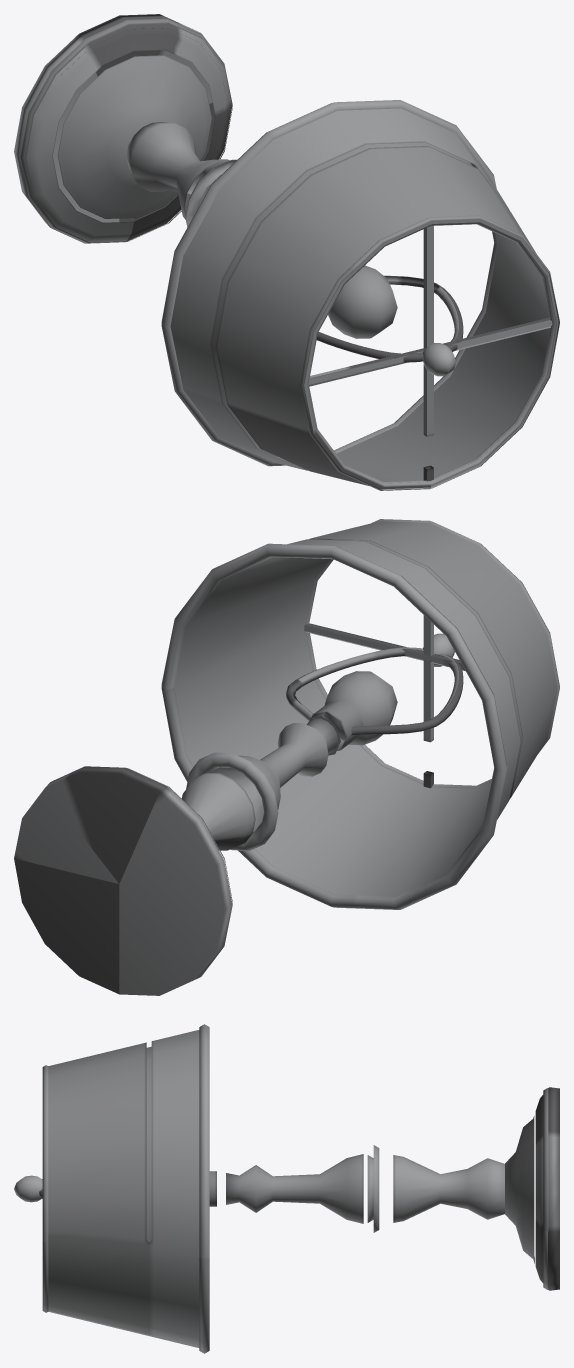
3 views of the same model, one above another, from view 1: azimuth 30°, elevation 25°; view 2: azimuth 150°, elevation 25°; view 3: azimuth 270°, elevation 25° (orthographic). The views are drawn at different scales.
Bounding box in the file's own units: 0.492 × 0.492 × 0.814.
